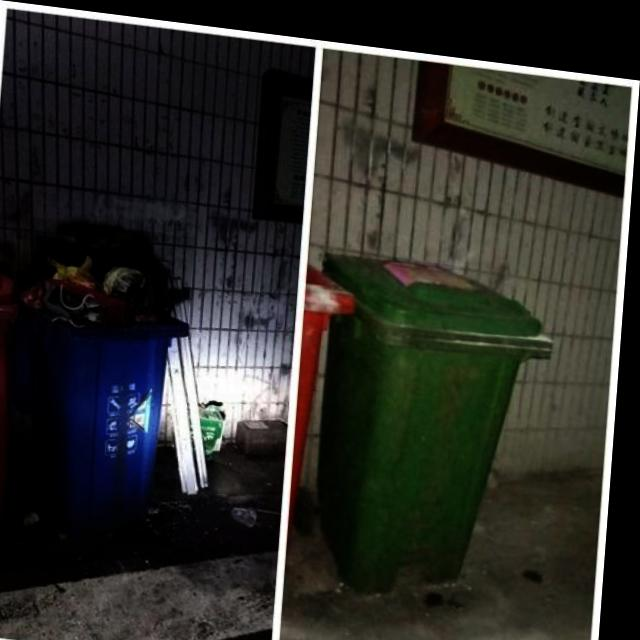garbage_bin: (306, 241, 559, 600)
overflow: (11, 215, 198, 542)
